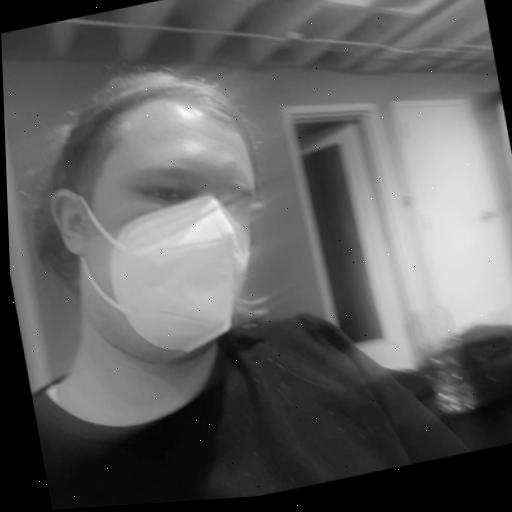mask: (2, 19, 374, 456)
